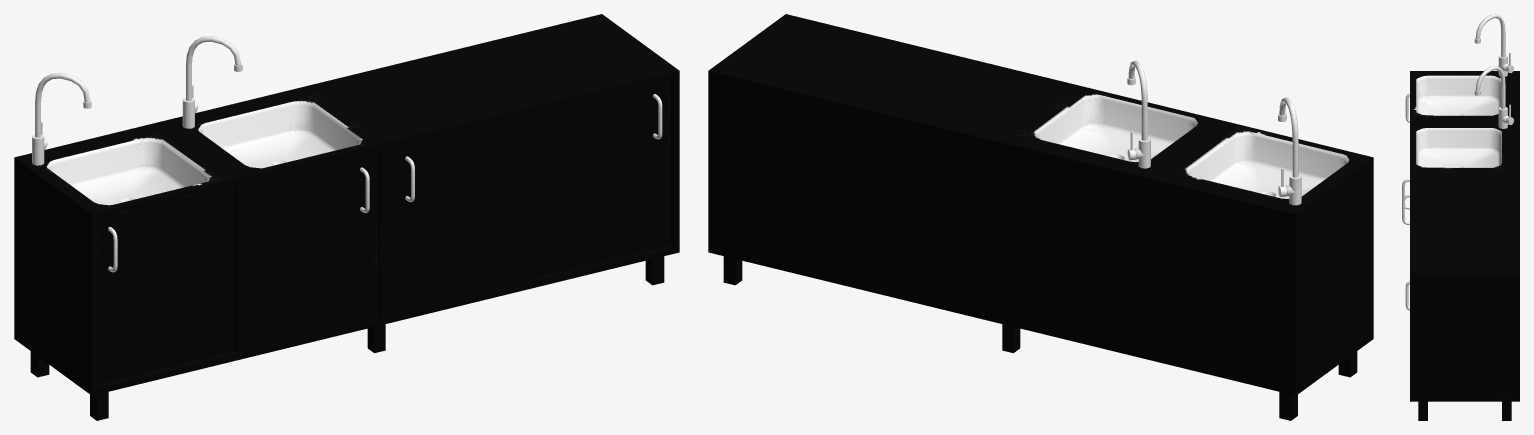
The model's file is Sink.fbx.
3 views of the same model, side by side, from view 1: azimuth 30°, elevation 25°; view 2: azimuth 150°, elevation 25°; view 3: azimuth 270°, elevation 25° (orthographic). The views are drawn at different scales.
Visible parts, largest first — view 1: Sink; view 2: Sink; view 3: Sink.
Part boxes in pixels (box(x1,y1,x2,y2)): Sink: box(14, 14, 679, 420); Sink: box(708, 14, 1373, 420); Sink: box(1402, 14, 1519, 420).
Bounding box in the file's own units: 412 × 205 × 101.
